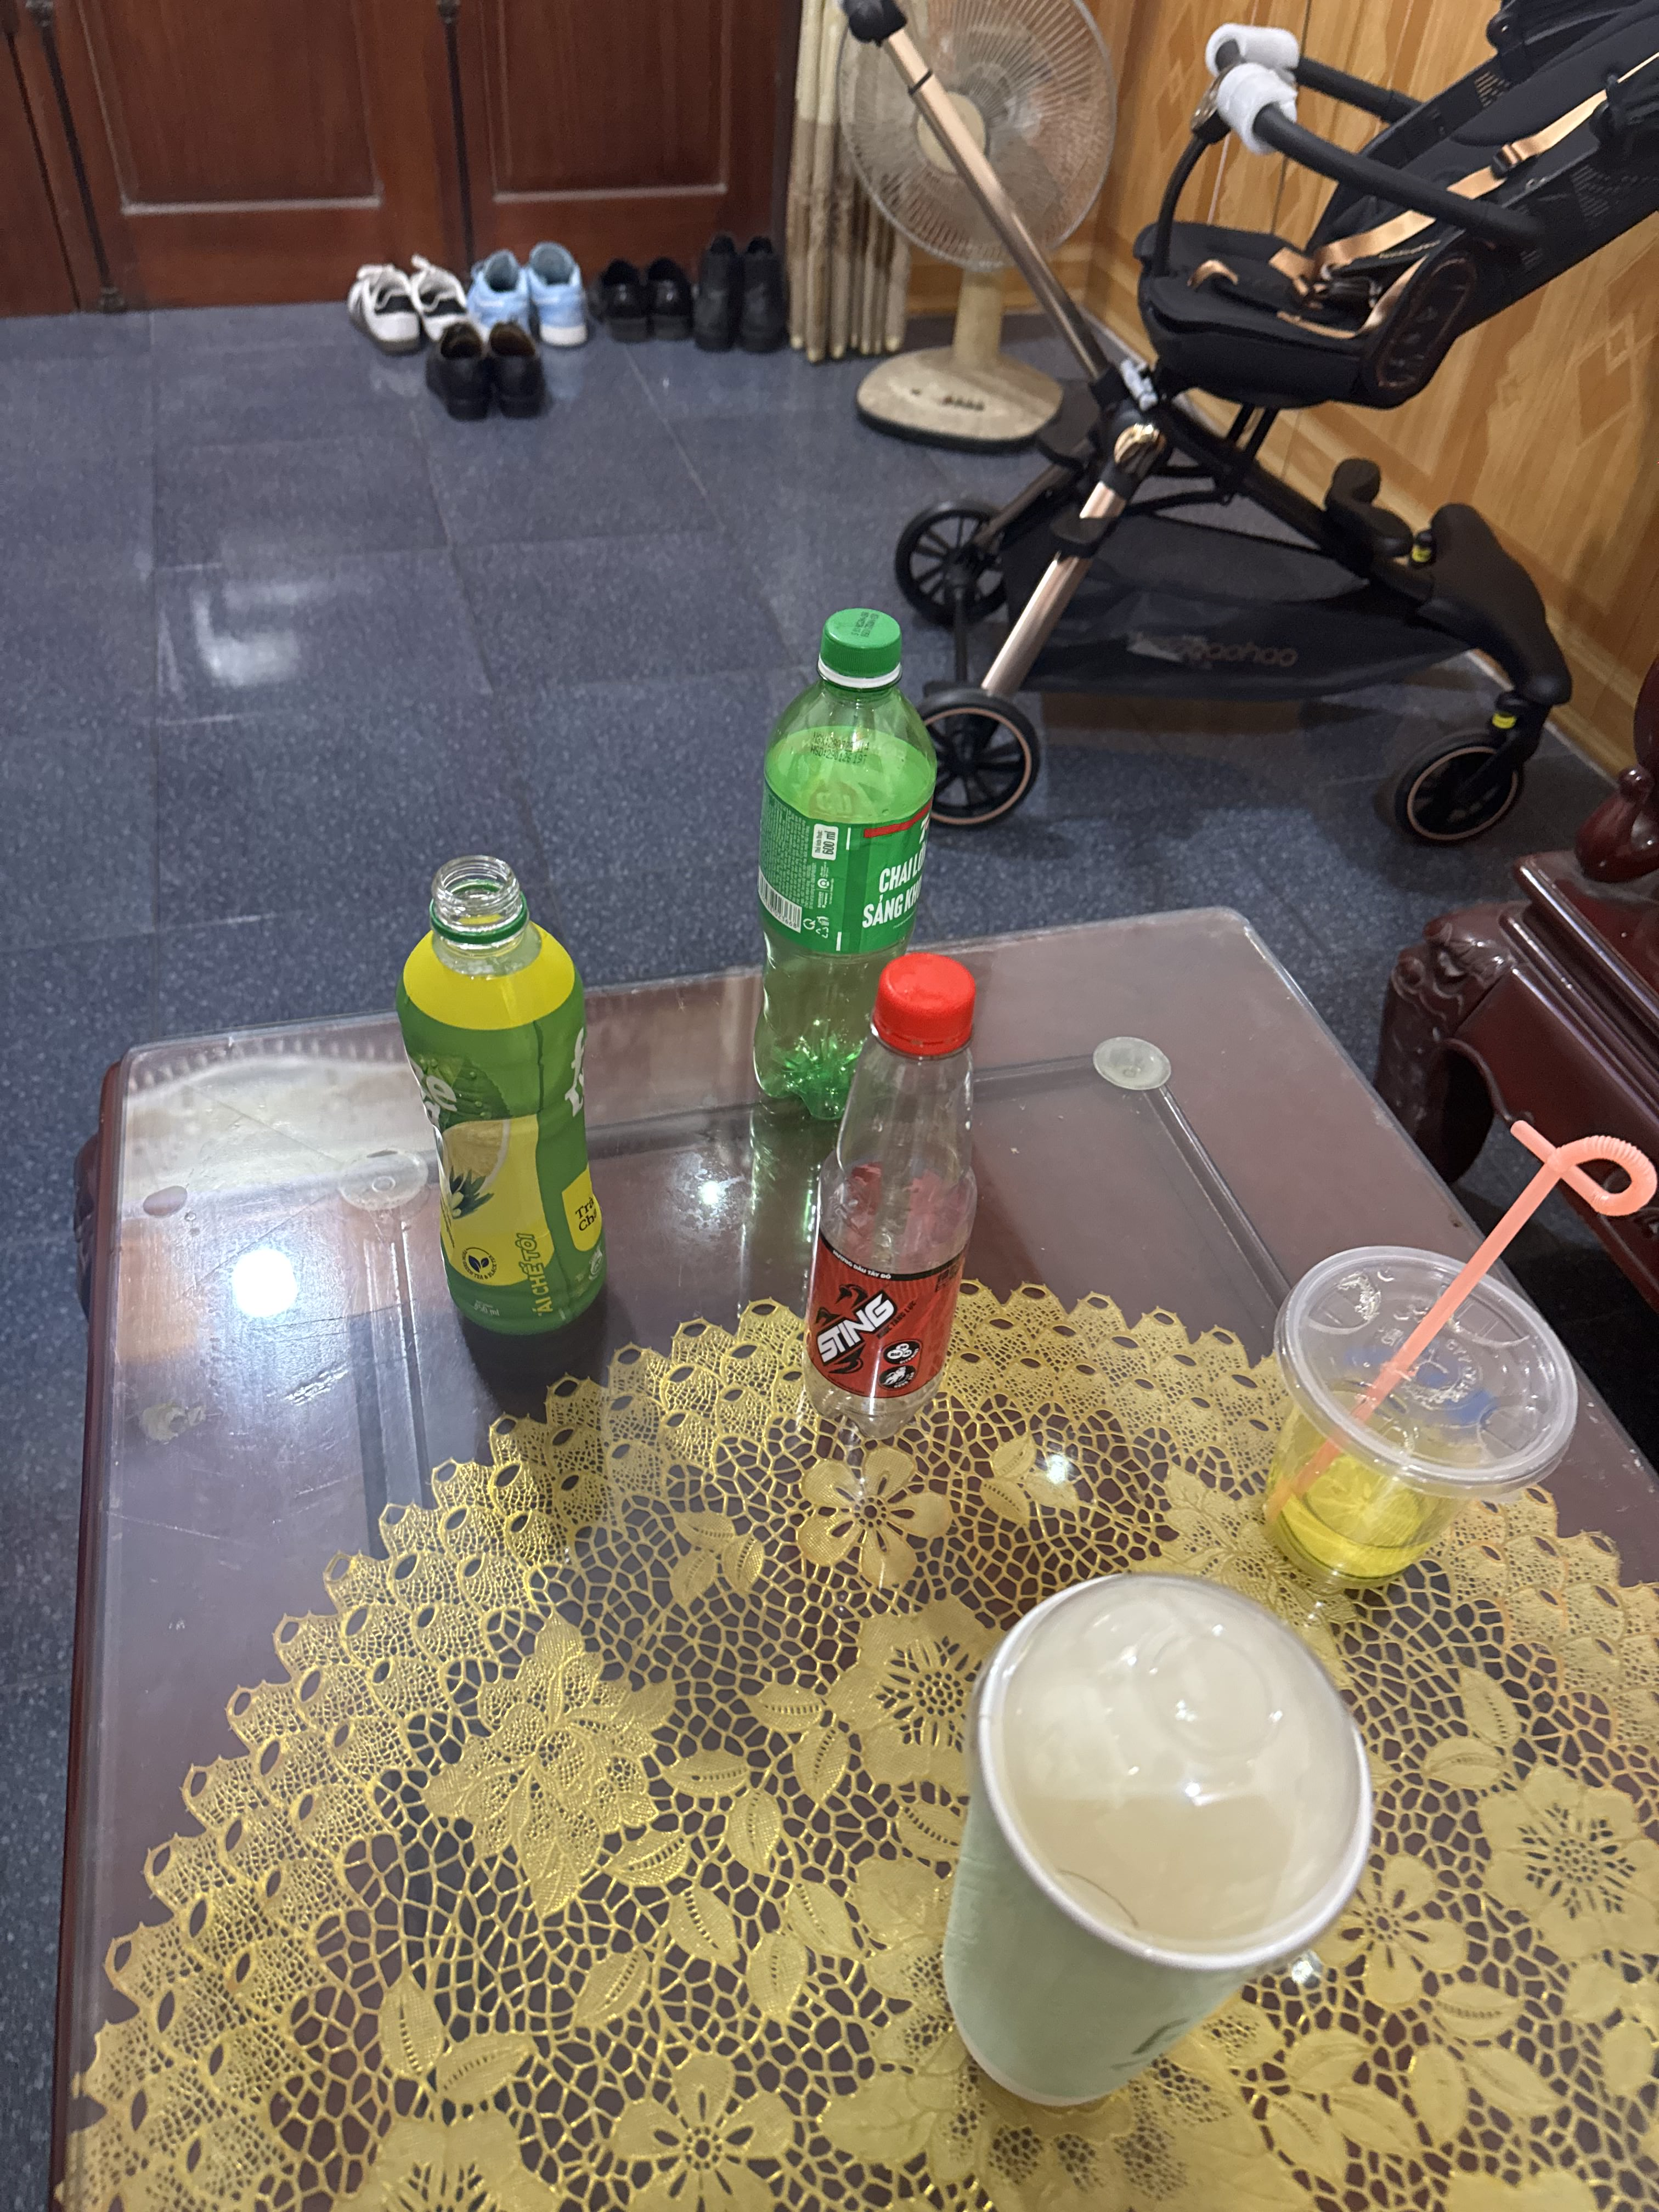2: (904, 1545, 1392, 2168), (1248, 1219, 1593, 1609)
bottle: (350, 822, 676, 1383), (746, 946, 1056, 1458), (714, 559, 969, 1139)
